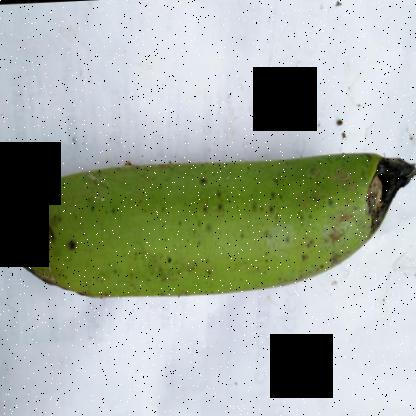unripe: (1, 129, 366, 339)
